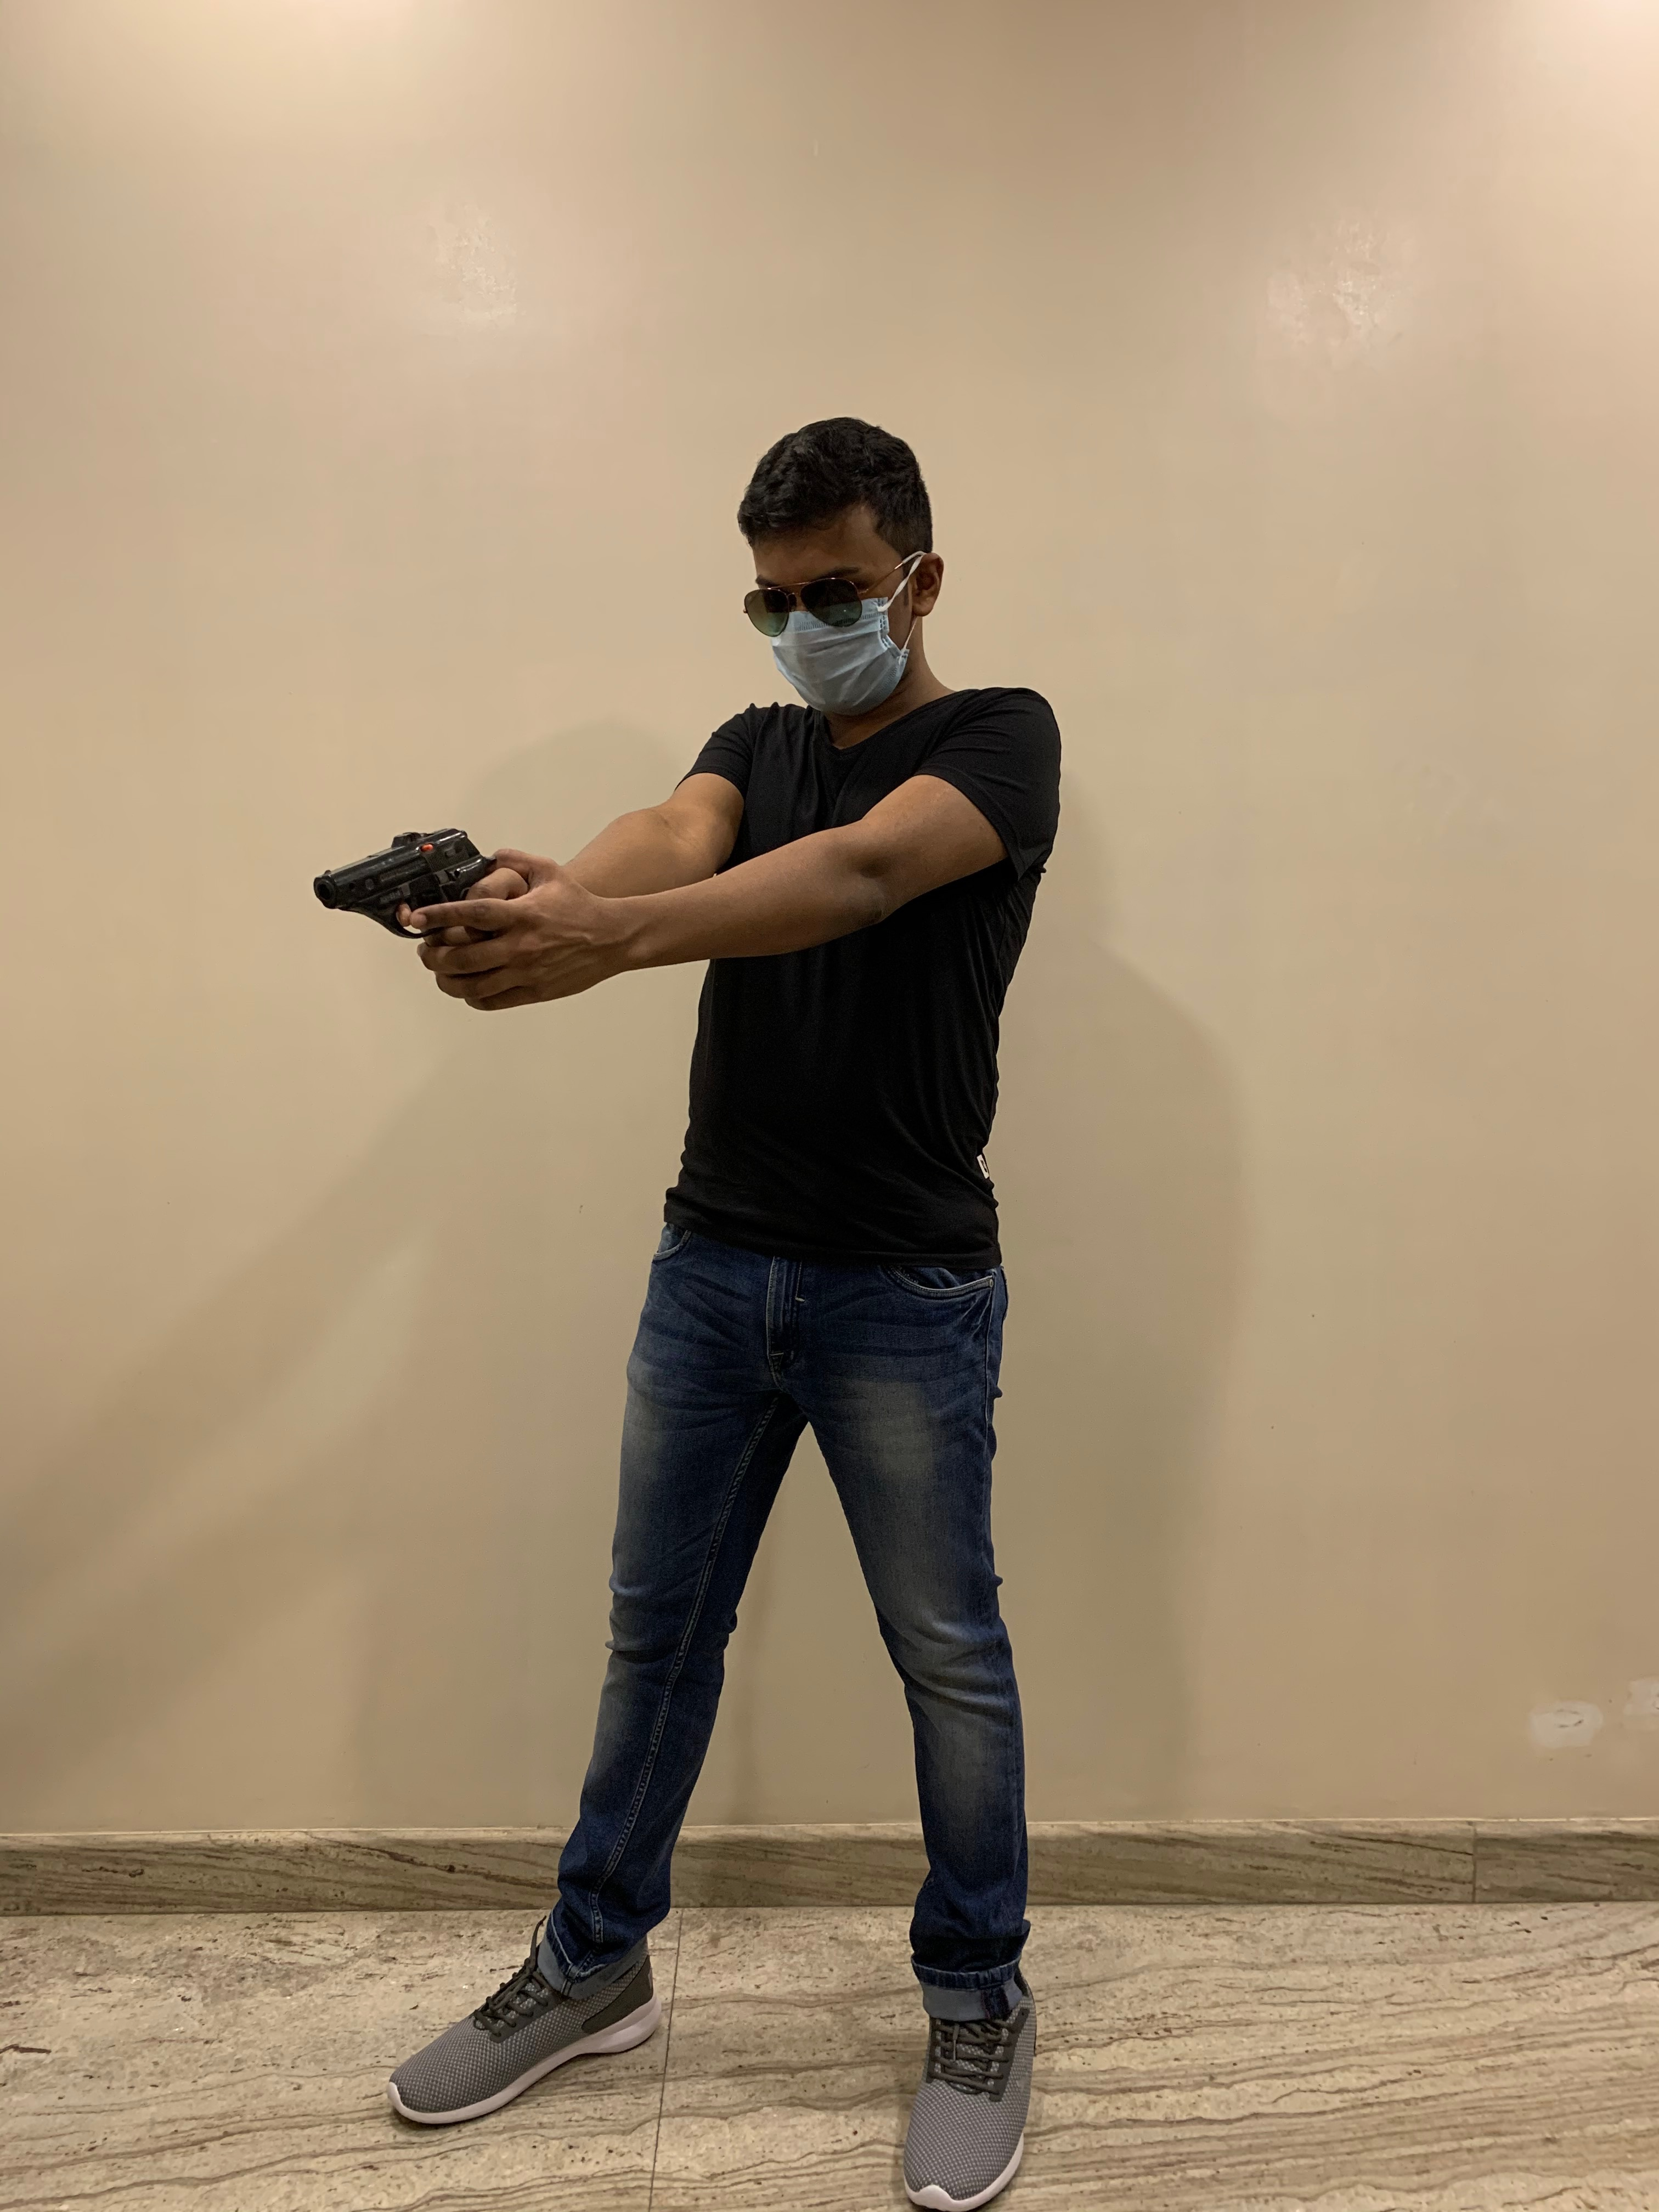gun: (307, 826, 500, 946)
